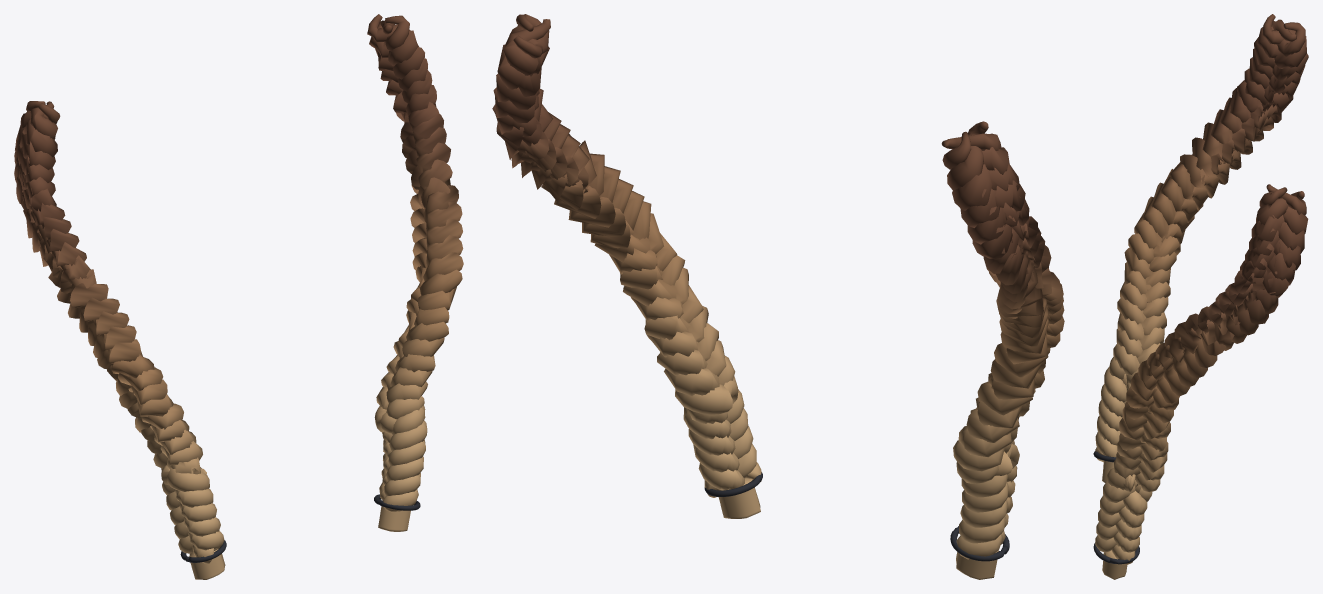
Rendered from Ombre-c7cdcd9a4242253-hair.glb.
3 renders of one model, left to right at view 1: azimuth 30°, elevation 25°; view 2: azimuth 150°, elevation 25°; view 3: azimuth 270°, elevation 25°, orthographic. The views are drawn at different scales.
Visible parts, largest first — view 1: 226 hairLengths / Hair / chestnut226, 226 hairLengths / Hair / ties226; view 2: 226 hairLengths / Hair / chestnut226, 226 hairLengths / Hair / ties226; view 3: 226 hairLengths / Hair / chestnut226, 226 hairLengths / Hair / ties226.
Boxes of the visible parts, box(x1,y1,x2,y2) form: 226 hairLengths / Hair / chestnut226: box(14, 14, 463, 579); 226 hairLengths / Hair / ties226: box(180, 494, 420, 562); 226 hairLengths / Hair / chestnut226: box(492, 14, 1064, 579); 226 hairLengths / Hair / ties226: box(704, 472, 1009, 561); 226 hairLengths / Hair / chestnut226: box(1095, 14, 1308, 579); 226 hairLengths / Hair / ties226: box(1093, 451, 1139, 564).
Bounding box in the file's own units: 1.03 × 1.06 × 0.4794.
2 materials, 1 textured.
